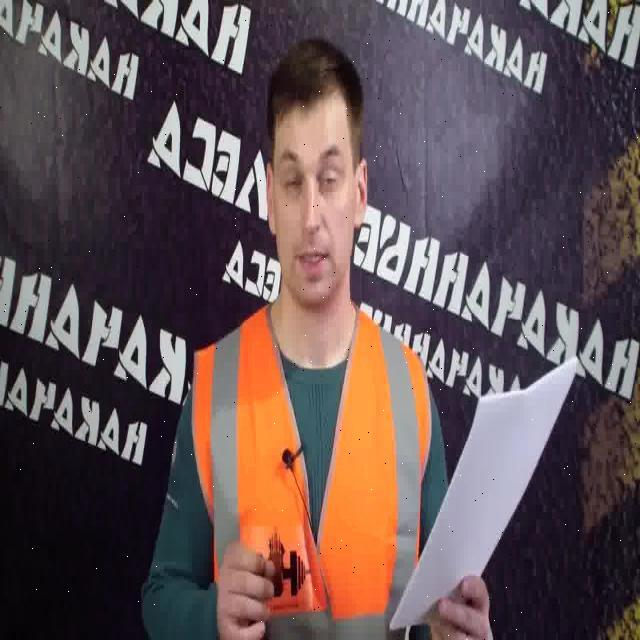Person: (135, 38, 475, 640)
Vest: (191, 316, 449, 628)
